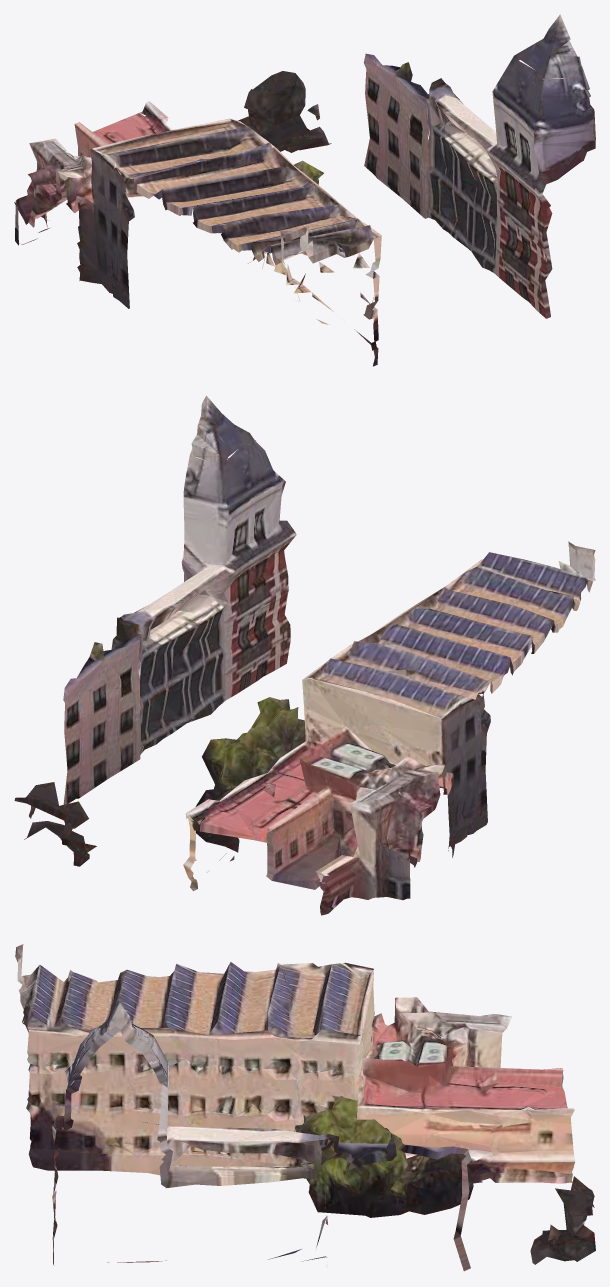
3 renders of one model, top to bottom at view 1: azimuth 30°, elevation 25°; view 2: azimuth 150°, elevation 25°; view 3: azimuth 270°, elevation 25°, orthographic. The views are drawn at different scales.
Visible parts, largest first — view 1: Mesh_0; view 2: Mesh_0; view 3: Mesh_0.
Part boxes in pixels (x1,y1,x2,y2): Mesh_0: (14, 14, 595, 366); Mesh_0: (14, 395, 595, 915); Mesh_0: (15, 944, 595, 1271).
Bounding box in the file's own units: 32.92 × 22.48 × 41.54.
Materials: 2 (2 with a texture image).
